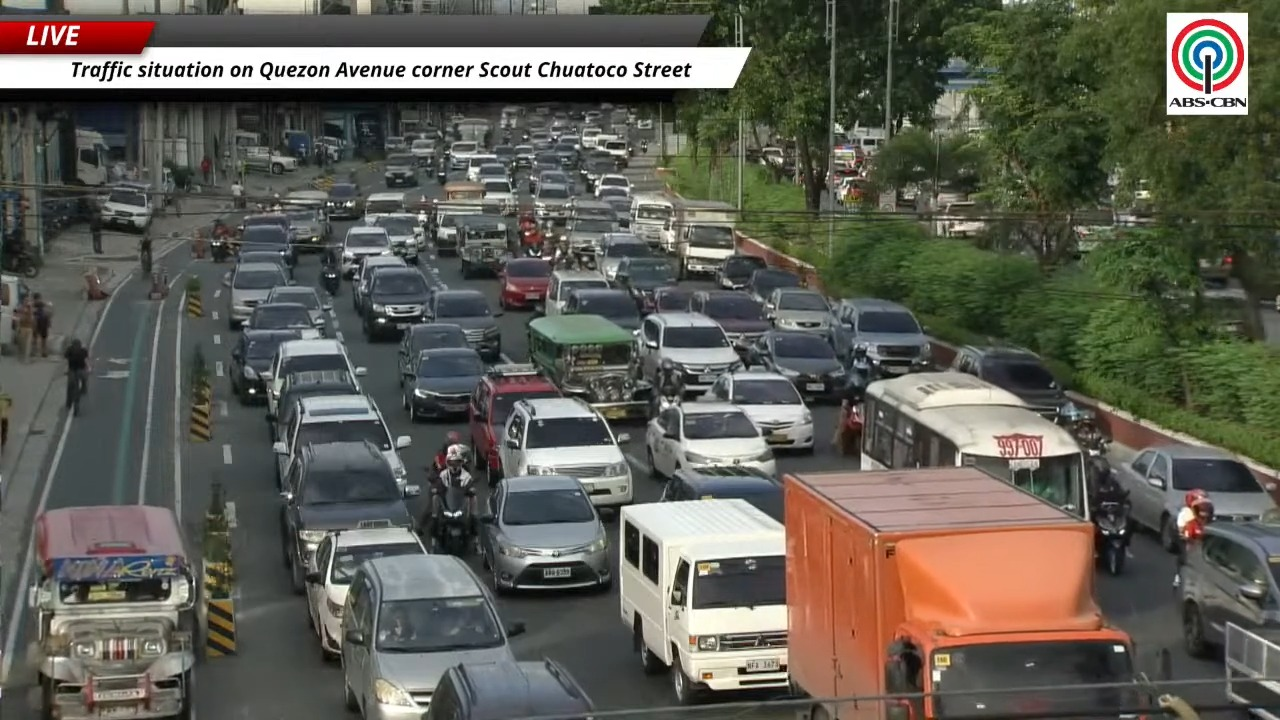bus: (861, 371, 1087, 518)
car: (340, 554, 524, 719), (281, 441, 419, 593), (1114, 443, 1275, 549), (306, 527, 426, 656), (479, 477, 610, 591), (499, 398, 633, 507), (1178, 522, 1279, 657), (272, 395, 411, 486), (469, 364, 561, 476), (422, 659, 593, 719), (645, 402, 776, 477), (702, 371, 814, 449), (950, 345, 1067, 418), (639, 312, 742, 392), (263, 338, 366, 414), (833, 298, 931, 374), (659, 466, 783, 522), (748, 330, 845, 399), (267, 371, 360, 442), (402, 348, 484, 419), (424, 289, 501, 361), (228, 329, 299, 404), (361, 267, 429, 340), (688, 291, 771, 346), (227, 263, 290, 329), (397, 323, 468, 381), (613, 256, 677, 313), (351, 255, 408, 318), (764, 288, 833, 337), (562, 288, 640, 331), (266, 285, 331, 334), (541, 269, 609, 315), (238, 213, 296, 265), (244, 301, 321, 338), (498, 257, 552, 308), (597, 233, 653, 281), (341, 226, 392, 277), (371, 213, 422, 263), (101, 185, 155, 232), (284, 198, 329, 251), (744, 267, 803, 303), (564, 217, 617, 254), (236, 246, 294, 279), (528, 151, 571, 194), (533, 182, 572, 222), (362, 192, 406, 223), (326, 183, 363, 218), (482, 178, 517, 214), (579, 158, 615, 193), (571, 197, 616, 223), (384, 152, 418, 186), (651, 284, 692, 312), (238, 212, 291, 233), (529, 169, 573, 194), (601, 194, 631, 230), (465, 153, 501, 182), (448, 141, 479, 171), (594, 174, 629, 197), (473, 162, 509, 184), (409, 138, 436, 167), (603, 139, 630, 168), (552, 138, 578, 167), (514, 144, 536, 170), (384, 136, 407, 158)
motorcycle: (1093, 500, 1130, 575), (433, 485, 471, 556), (1055, 402, 1107, 451), (0, 243, 39, 278), (838, 403, 863, 455), (847, 355, 876, 390), (650, 386, 682, 417), (320, 265, 340, 296), (210, 236, 229, 262), (523, 242, 542, 257), (435, 169, 446, 184), (641, 140, 647, 153)
truck: (784, 467, 1147, 719), (1223, 622, 1279, 719), (674, 199, 739, 279), (75, 128, 109, 186), (240, 146, 296, 174), (455, 118, 492, 147)
